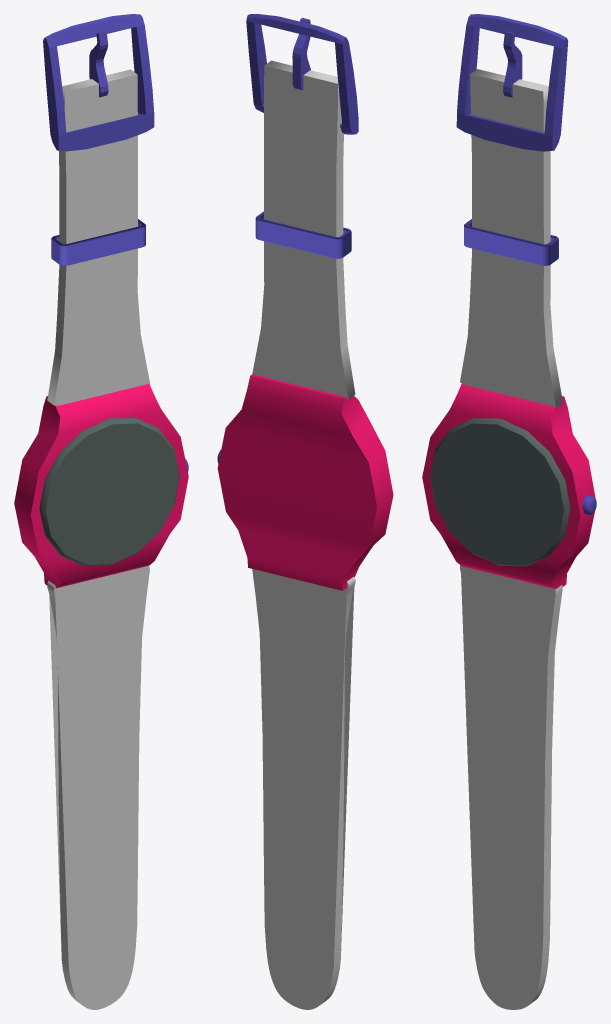
Rendered from Giant_Swatch.obj.
3 views of the same model, side by side, from view 1: azimuth 30°, elevation 25°; view 2: azimuth 150°, elevation 25°; view 3: azimuth 330°, elevation 25° (orthographic).
Parts seen in each view (by area): view 1: bottom.1, top, glass_face, watch_face_frame, buckle, Level_35, buckle_fastener; view 2: bottom.1, watch_face_frame, top, buckle, Level_35, buckle_fastener; view 3: bottom.1, top, glass_face, watch_face_frame, buckle, Level_35, buckle_fastener.
Part boxes in pixels (x1=…): bottom.1: x1=47, y1=565, x2=149, y2=1009; top: x1=47, y1=69, x2=150, y2=405; glass_face: x1=39, y1=417, x2=179, y2=565; watch_face_frame: x1=14, y1=384, x2=188, y2=588; buckle: x1=43, y1=14, x2=154, y2=151; Level_35: x1=51, y1=219, x2=145, y2=265; buckle_fastener: x1=89, y1=31, x2=108, y2=97; bottom.1: x1=252, y1=569, x2=355, y2=1009; watch_face_frame: x1=217, y1=374, x2=393, y2=590; top: x1=252, y1=60, x2=355, y2=399; buckle: x1=246, y1=14, x2=358, y2=134; Level_35: x1=255, y1=211, x2=351, y2=258; buckle_fastener: x1=292, y1=17, x2=310, y2=89; bottom.1: x1=460, y1=565, x2=562, y2=1009; top: x1=460, y1=69, x2=562, y2=407; glass_face: x1=430, y1=418, x2=570, y2=566; watch_face_frame: x1=422, y1=383, x2=595, y2=589; buckle: x1=456, y1=14, x2=568, y2=151; Level_35: x1=464, y1=219, x2=558, y2=265; buckle_fastener: x1=503, y1=31, x2=522, y2=97.
Bounding box in the file's own units: 81.78 × 470 × 19.84.
